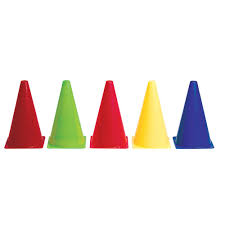cones: (174, 78, 215, 152), (90, 79, 131, 152), (132, 80, 173, 153), (2, 81, 44, 149), (48, 82, 85, 150)
